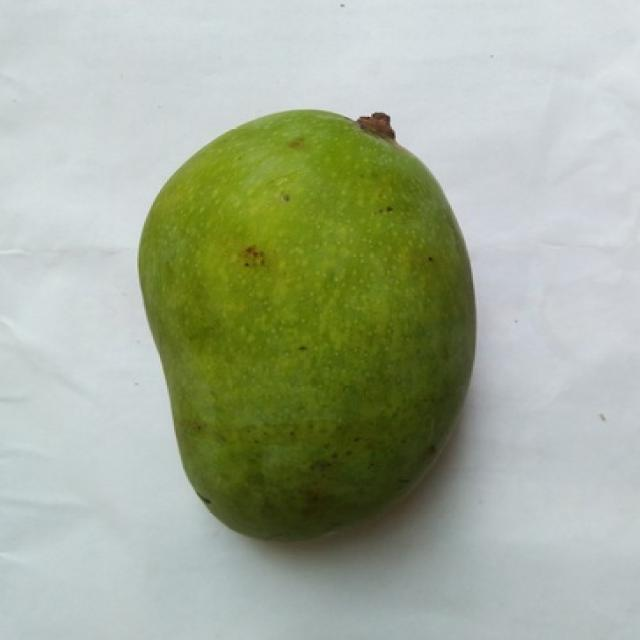Mango: (141, 111, 475, 538)
